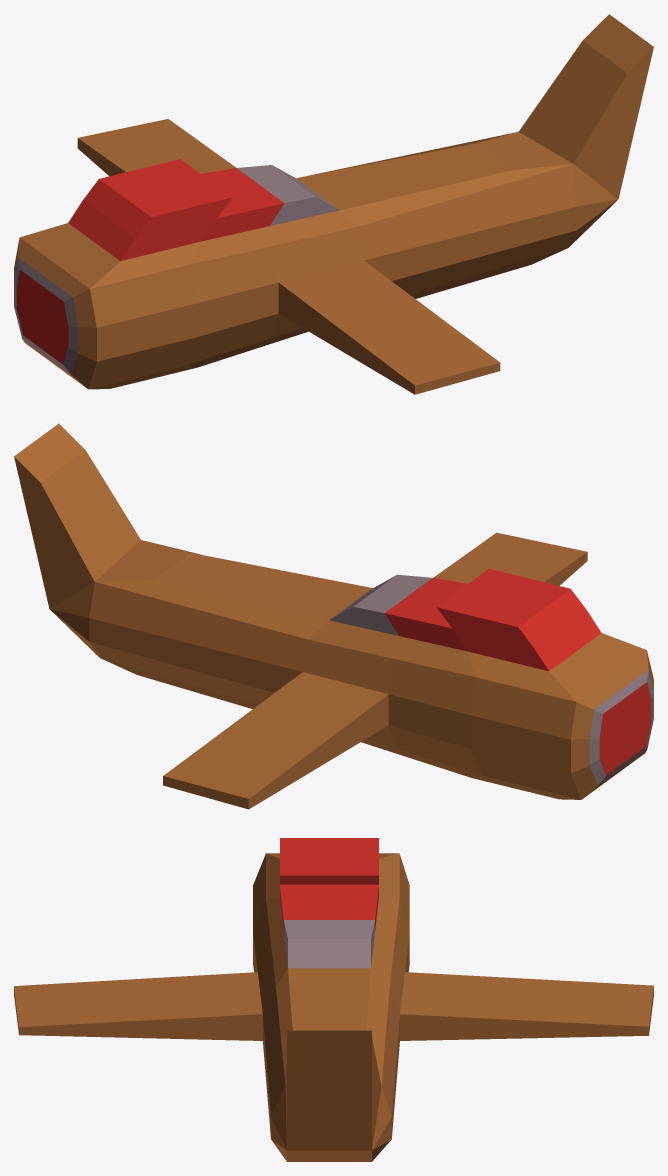
File: PFAvionRedim1.fbx
The picture shows the model from 3 angles, top to bottom: view 1: azimuth 30°, elevation 25°; view 2: azimuth 150°, elevation 25°; view 3: azimuth 270°, elevation 25°; orthographic projection. The views are drawn at different scales.
Parts seen in each view (by area): view 1: Cube.001, Cube.003, Cube.000, Cube.004, Cube.002; view 2: Cube.001, Cube.003, Cube.000, Cube.004, Cube.002; view 3: Cube.001, Cube.003, Cube.004.
Boxes of the visible parts, x1,y1,x2,y2 form: Cube.001: [14, 14, 653, 394]; Cube.003: [68, 159, 284, 261]; Cube.000: [16, 270, 68, 364]; Cube.004: [237, 165, 339, 225]; Cube.002: [14, 257, 77, 374]; Cube.001: [14, 423, 653, 809]; Cube.003: [384, 569, 601, 671]; Cube.000: [599, 682, 651, 775]; Cube.004: [329, 574, 432, 635]; Cube.002: [589, 670, 653, 785]; Cube.001: [14, 853, 653, 1161]; Cube.003: [280, 838, 378, 931]; Cube.004: [284, 920, 374, 968].
Bounding box in the file's own units: 3019 × 1000 × 3000.
